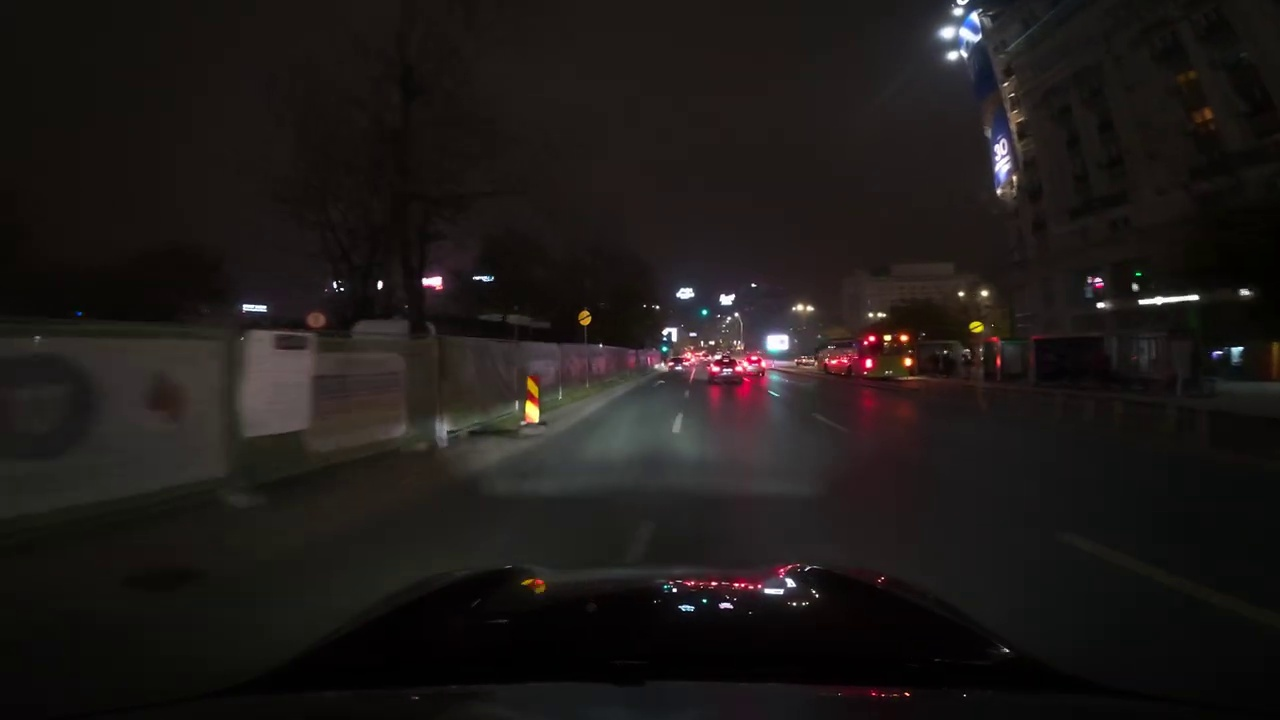apagada: (936, 17, 981, 67)
